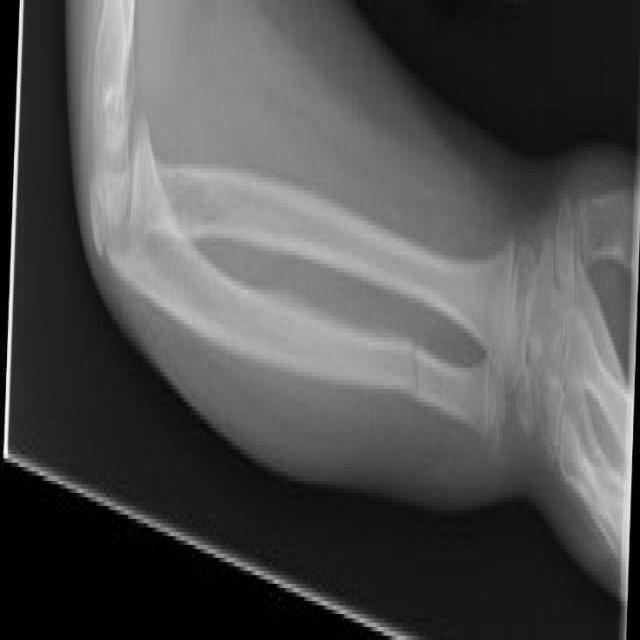Greenstick: (392, 289, 441, 437)
